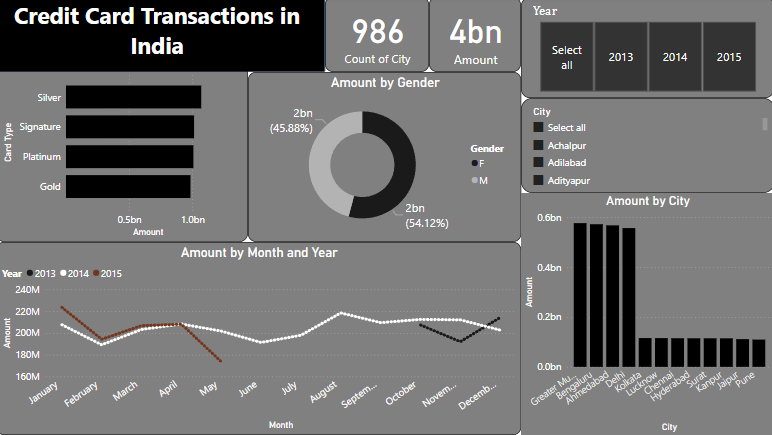

The page's visual inventory and layout, read from the dashboard file:
{"tool":"powerbi","page":{"name":"Page 1","canvas":[1280,720],"ordinal":0},"visuals":[{"type":"barChart","fields":{"Category":["Credit card transactions - India - Simple.Card Type"],"Y":["Sum(Credit card transactions - India - Simple.Amount)"]},"box":[0,83.8,414.1,318.8],"z":0},{"type":"donutChart","fields":{"Category":["Credit card transactions - India - Simple.Gender"],"Y":["Sum(Credit card transactions - India - Simple.Amount)"]},"box":[414.1,123.2,448.6,279.3],"z":1000},{"type":"card","fields":{"Values":["Count(Credit card transactions - India - Simple.City)"]},"box":[540.6,0,170.9,123.2],"z":2000},{"type":"card","fields":{"Values":["Sum(Credit card transactions - India - Simple.Amount)"]},"box":[711.5,0,151.2,123.2],"z":3000},{"type":"lineChart","fields":{"Y":["Sum(Credit card transactions - India - Simple.Amount)"],"Series":["Credit card transactions - India - Simple.Date.Variation.Date Hierarchy.Year"],"Category":["Credit card transactions - India - Simple.Date.Variation.Date Hierarchy.Month"]},"box":[0,402.6,862.6,317.1],"z":4000},{"type":"slicer","fields":{"Values":["Credit card transactions - India - Simple.Date.Variation.Date Hierarchy.Year"]},"box":[862.6,0,415.7,166],"z":5000},{"type":"shape","box":[0,0,540.6,123.2],"z":6000},{"type":"textbox","box":[0,0,529.1,123.2],"z":7000},{"type":"columnChart","fields":{"Category":["Credit card transactions - India - Simple.City"],"Y":["Sum(Credit card transactions - India - Simple.Amount)"]},"box":[862.6,322.1,417.4,397.6],"z":8000},{"type":"slicer","fields":{"Values":["Credit card transactions - India - Simple.City"]},"box":[862.6,166,417.4,156.1],"z":9000}]}

Visuals, with their boxes in screenshot pixels (x1, y1, x2, y2), scaled from the page's 1280x720 canvas onto the 772x435 screenshot:
barChart - Credit card transactions - India - Simple.Card Type x Sum(Credit card transactions - India - Simple.Amount): bbox(0, 51, 250, 243)
donutChart - Credit card transactions - India - Simple.Gender x Sum(Credit card transactions - India - Simple.Amount): bbox(250, 74, 520, 243)
card - Count(Credit card transactions - India - Simple.City): bbox(326, 0, 429, 74)
card - Sum(Credit card transactions - India - Simple.Amount): bbox(429, 0, 520, 74)
lineChart - Sum(Credit card transactions - India - Simple.Amount) x Credit card transactions - India - Simple.Date.Variation.Date Hierarchy.Year: bbox(0, 243, 520, 434)
slicer - Credit card transactions - India - Simple.Date.Variation.Date Hierarchy.Year: bbox(520, 0, 771, 100)
shape: bbox(0, 0, 326, 74)
textbox: bbox(0, 0, 319, 74)
columnChart - Credit card transactions - India - Simple.City x Sum(Credit card transactions - India - Simple.Amount): bbox(520, 195, 771, 434)
slicer - Credit card transactions - India - Simple.City: bbox(520, 100, 771, 195)
